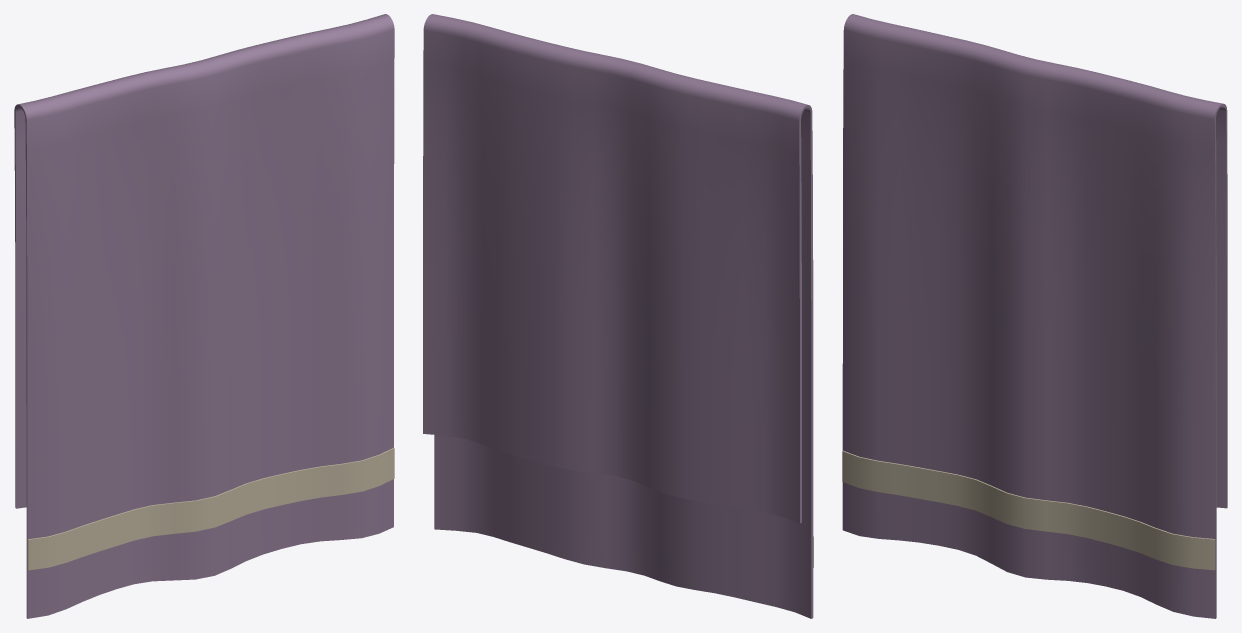
The model's file is towel-line-mint-7591393b28e0.glb.
The picture shows the model from 3 angles, left to right: view 1: azimuth 30°, elevation 25°; view 2: azimuth 150°, elevation 25°; view 3: azimuth 330°, elevation 25°; orthographic projection.
Visible parts, largest first — view 1: cloth-lilac, cloth-cream; view 2: cloth-lilac; view 3: cloth-lilac, cloth-cream.
Part boxes in pixels (left/top/right/bottom): cloth-lilac: left=14, top=14, right=394, bottom=618; cloth-cream: left=27, top=447, right=394, bottom=570; cloth-lilac: left=423, top=14, right=813, bottom=618; cloth-lilac: left=842, top=14, right=1227, bottom=618; cloth-cream: left=842, top=450, right=1215, bottom=570.
Size of the model in its own units: 0.38 by 0.5 by 0.036.
